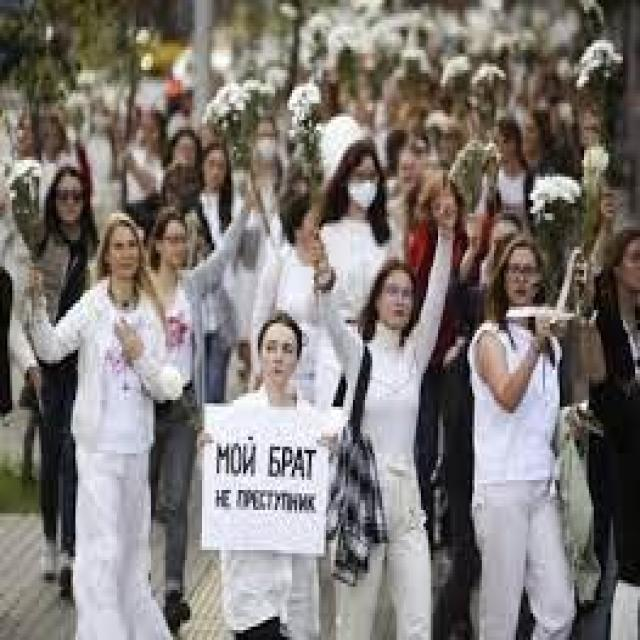no-helmet: (489, 113, 535, 217), (501, 246, 538, 306), (379, 270, 414, 330), (346, 153, 380, 210), (260, 327, 294, 383), (107, 223, 139, 280), (54, 170, 80, 227), (161, 220, 185, 267), (620, 236, 640, 286), (204, 150, 227, 193), (255, 120, 278, 160), (173, 136, 197, 166), (523, 114, 540, 154), (399, 154, 419, 184)
